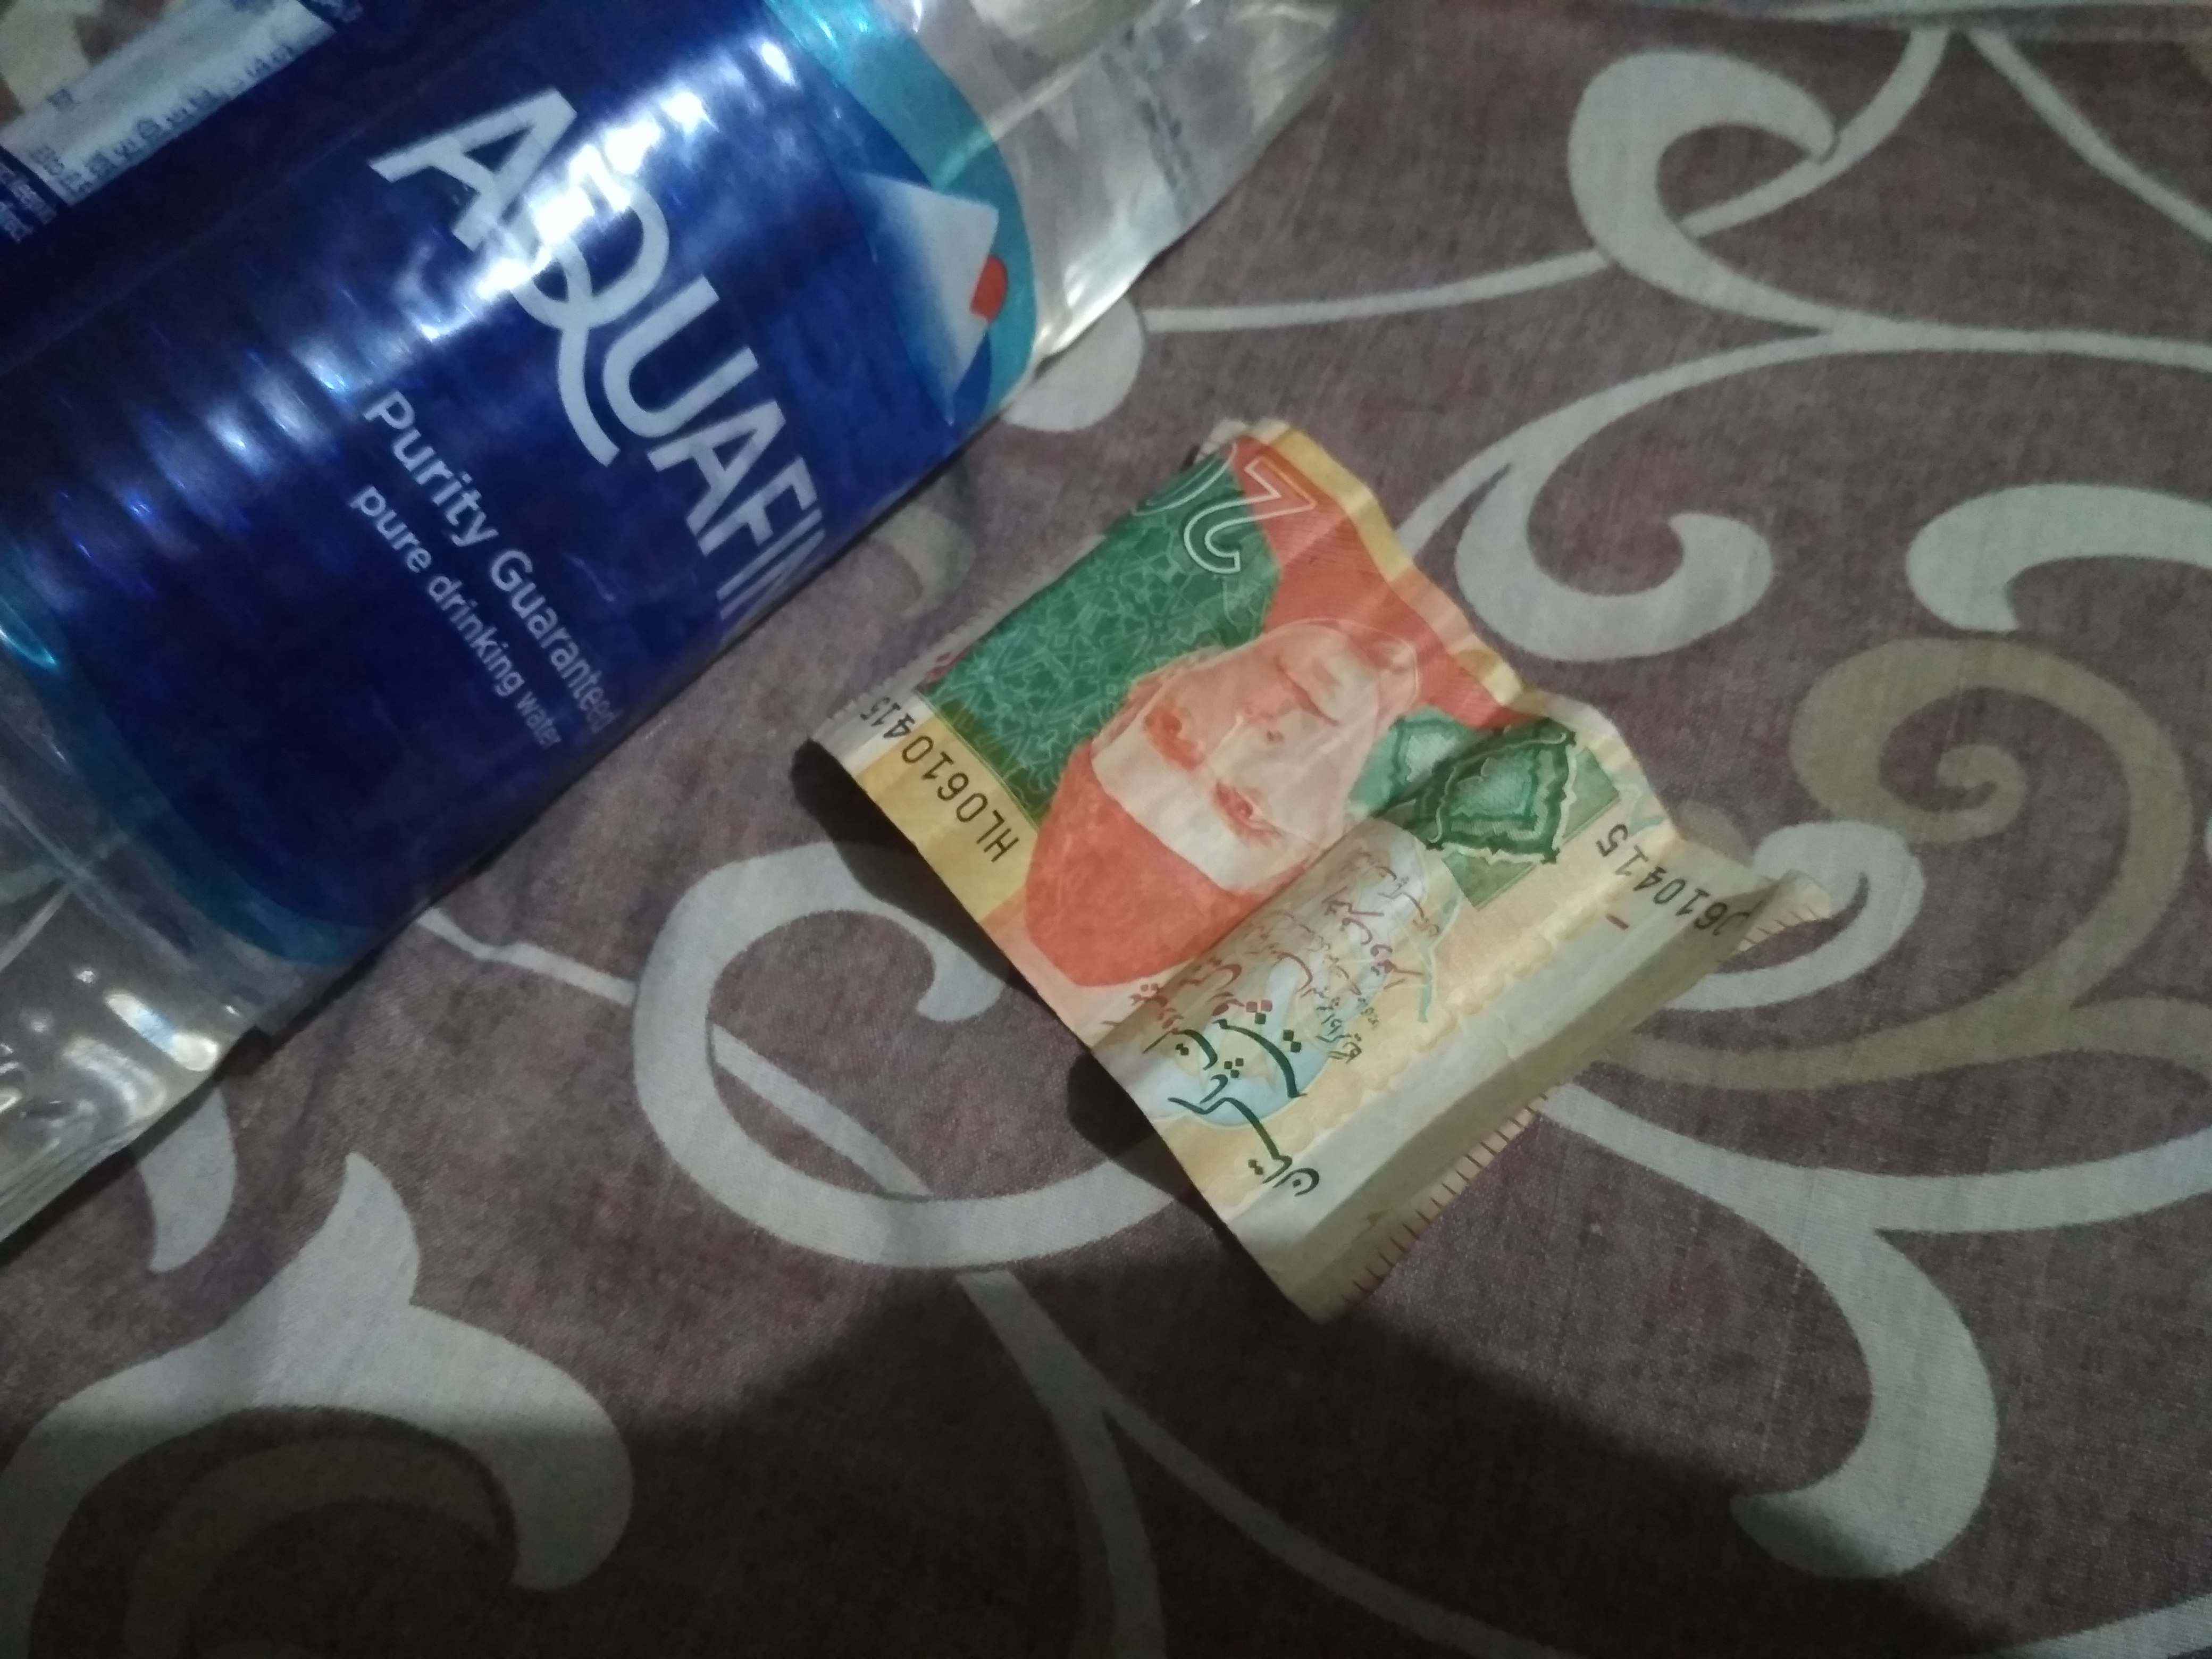20 rupee: (810, 382, 1836, 1380)
